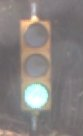Green: (14, 15, 53, 112)
